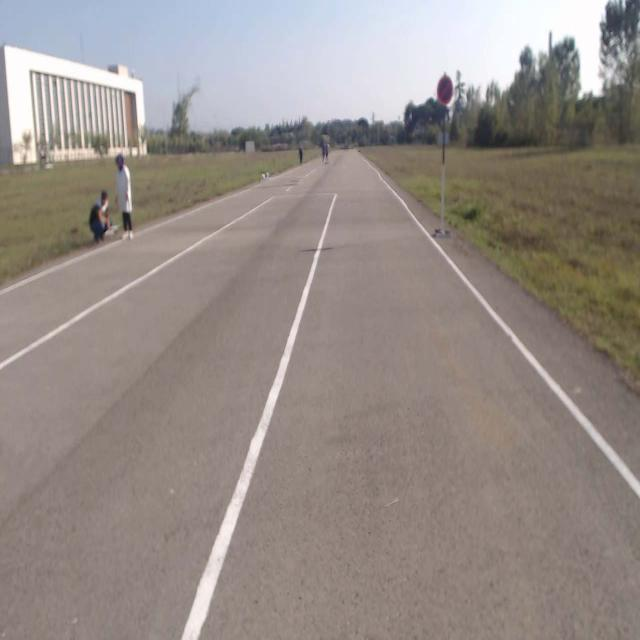parkyasak: (438, 76, 452, 105)
